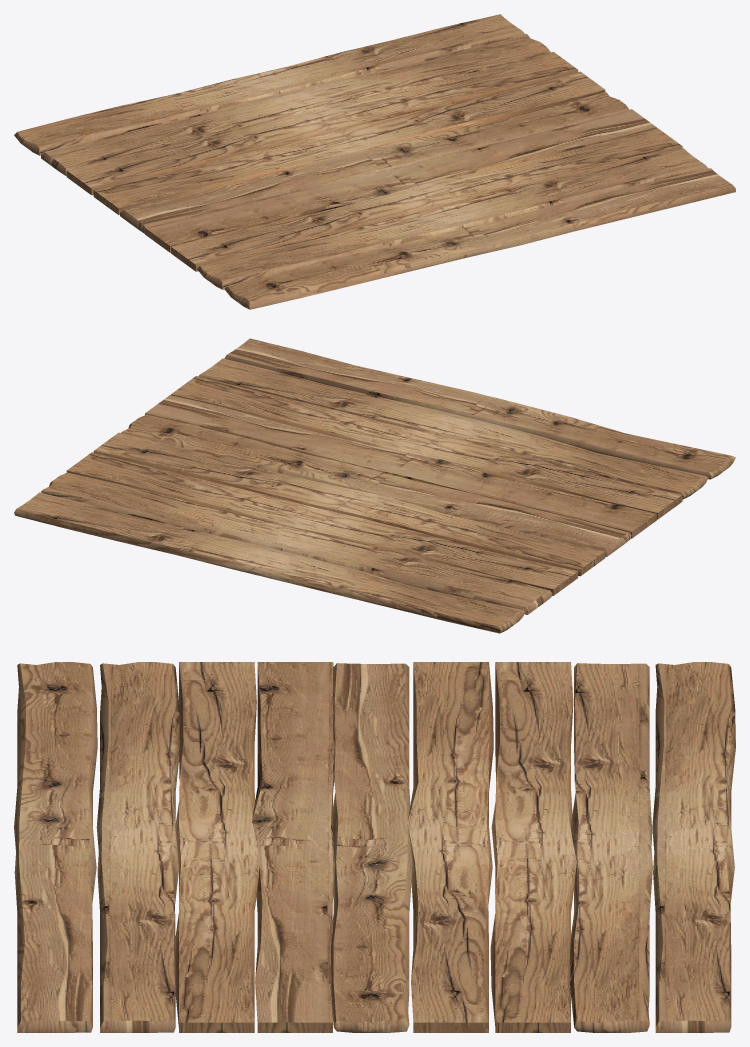
File: scanduri de lemn.glb
3 views of the same model, one above another, from view 1: azimuth 30°, elevation 25°; view 2: azimuth 150°, elevation 25°; view 3: azimuth 270°, elevation 25° (orthographic). The views are drawn at different scales.
Visible parts, largest first — view 1: Box192_Material #170_0.001, Box188_Material #170_0.001, Box181_Material #170_0.001, Box194_Material #170_0.001, Box186_Material #170_0.001, Box191_Material #170_0.001, Box190_Material #170_0.001, Box187_Material #170_0.001, Box189_Material #170_0.001; view 2: Box188_Material #170_0.001, Box187_Material #170_0.001, Box192_Material #170_0.001, Box181_Material #170_0.001, Box186_Material #170_0.001, Box189_Material #170_0.001, Box191_Material #170_0.001, Box190_Material #170_0.001, Box194_Material #170_0.001; view 3: Box181_Material #170_0.001, Box186_Material #170_0.001, Box191_Material #170_0.001, Box188_Material #170_0.001, Box192_Material #170_0.001, Box194_Material #170_0.001, Box190_Material #170_0.001, Box187_Material #170_0.001, Box189_Material #170_0.001.
Boxes of the visible parts, bbox=[...] form: Box192_Material #170_0.001: bbox=[224, 168, 735, 309]; Box188_Material #170_0.001: bbox=[14, 14, 524, 155]; Box181_Material #170_0.001: bbox=[93, 71, 605, 214]; Box194_Material #170_0.001: bbox=[197, 148, 708, 289]; Box186_Material #170_0.001: bbox=[66, 52, 578, 195]; Box191_Material #170_0.001: bbox=[171, 128, 682, 271]; Box190_Material #170_0.001: bbox=[145, 109, 656, 252]; Box187_Material #170_0.001: bbox=[41, 34, 550, 175]; Box189_Material #170_0.001: bbox=[120, 92, 629, 233]; Box188_Material #170_0.001: bbox=[14, 492, 525, 633]; Box187_Material #170_0.001: bbox=[41, 472, 552, 614]; Box192_Material #170_0.001: bbox=[224, 338, 735, 479]; Box181_Material #170_0.001: bbox=[93, 432, 605, 576]; Box186_Material #170_0.001: bbox=[66, 452, 578, 595]; Box189_Material #170_0.001: bbox=[121, 414, 631, 556]; Box191_Material #170_0.001: bbox=[171, 376, 682, 519]; Box190_Material #170_0.001: bbox=[145, 395, 656, 538]; Box194_Material #170_0.001: bbox=[198, 358, 708, 499]; Box181_Material #170_0.001: bbox=[407, 662, 493, 1032]; Box186_Material #170_0.001: bbox=[490, 662, 576, 1032]; Box191_Material #170_0.001: bbox=[175, 662, 260, 1032]; Box188_Material #170_0.001: bbox=[652, 662, 735, 1032]; Box192_Material #170_0.001: bbox=[14, 662, 97, 1032]; Box194_Material #170_0.001: bbox=[96, 662, 179, 1032]; Box190_Material #170_0.001: bbox=[251, 662, 334, 1032]; Box187_Material #170_0.001: bbox=[569, 663, 652, 1032]; Box189_Material #170_0.001: bbox=[331, 663, 412, 1032].
Bounding box in the file's own units: 18.12 × 0.2939 × 15.14.
1 material, 1 textured.
